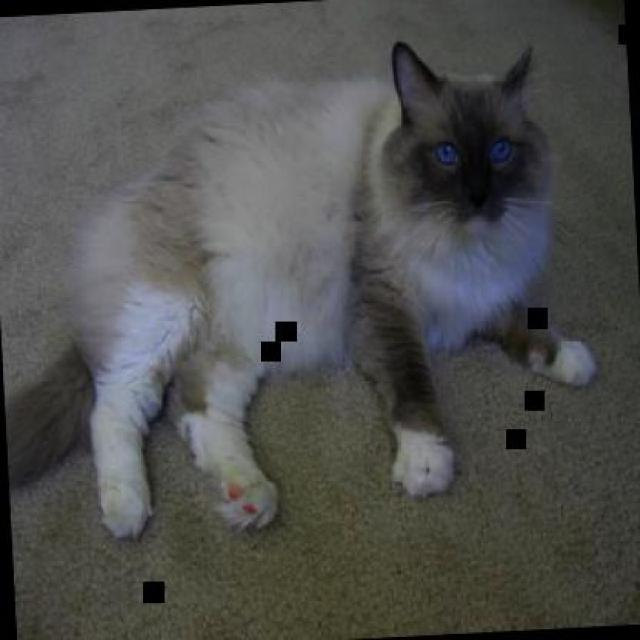cat: (0, 29, 606, 549)
